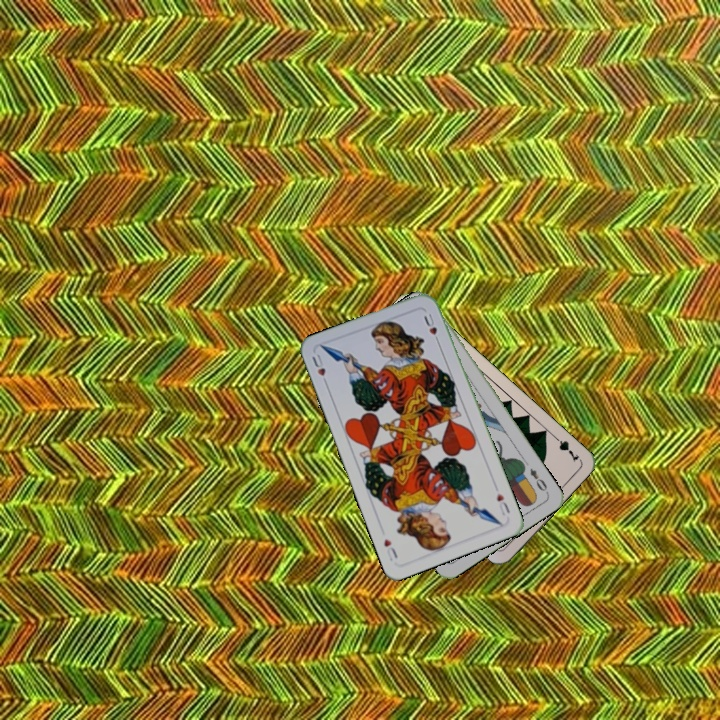EO: (526, 464, 551, 496)
G7: (548, 431, 582, 465)
HU: (308, 350, 330, 389), (492, 489, 512, 518)
